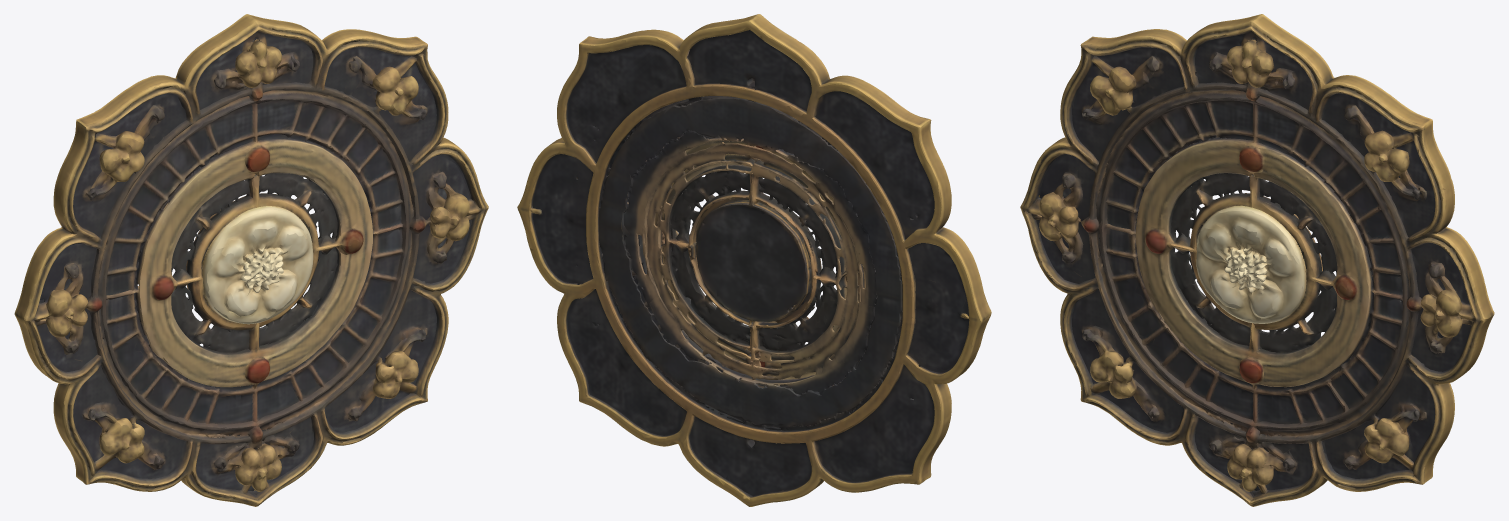
File: meihua-auxing-compass-v2-g1-turbo.glb
The picture shows the model from 3 angles, left to right: view 1: azimuth 30°, elevation 25°; view 2: azimuth 150°, elevation 25°; view 3: azimuth 330°, elevation 25°; orthographic projection.
Parts seen in each view (by area): view 1: world; view 2: world; view 3: world.
Boxes of the visible parts, x1,y1,x2,y2 form: world: [14, 14, 488, 506]; world: [517, 14, 991, 506]; world: [1020, 14, 1494, 506].
Bounding box in the file's own units: 0.12 × 0.12 × 0.01.
1 material, 1 textured.
